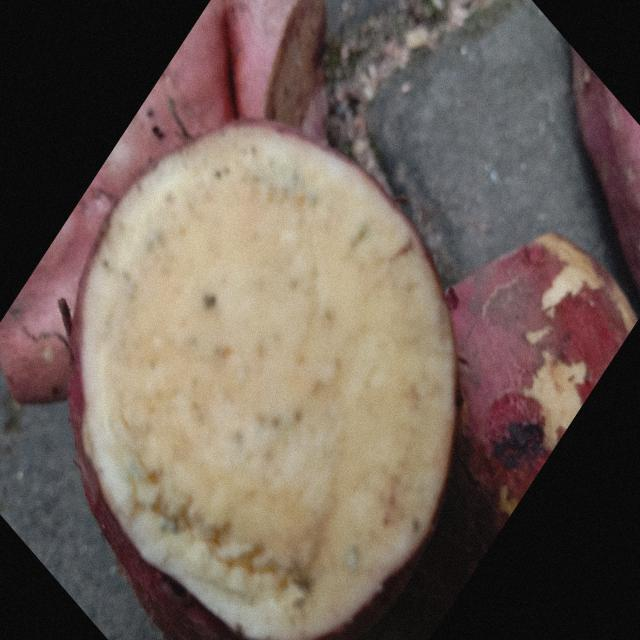Healthy Sweet Potato: (70, 123, 456, 638)
